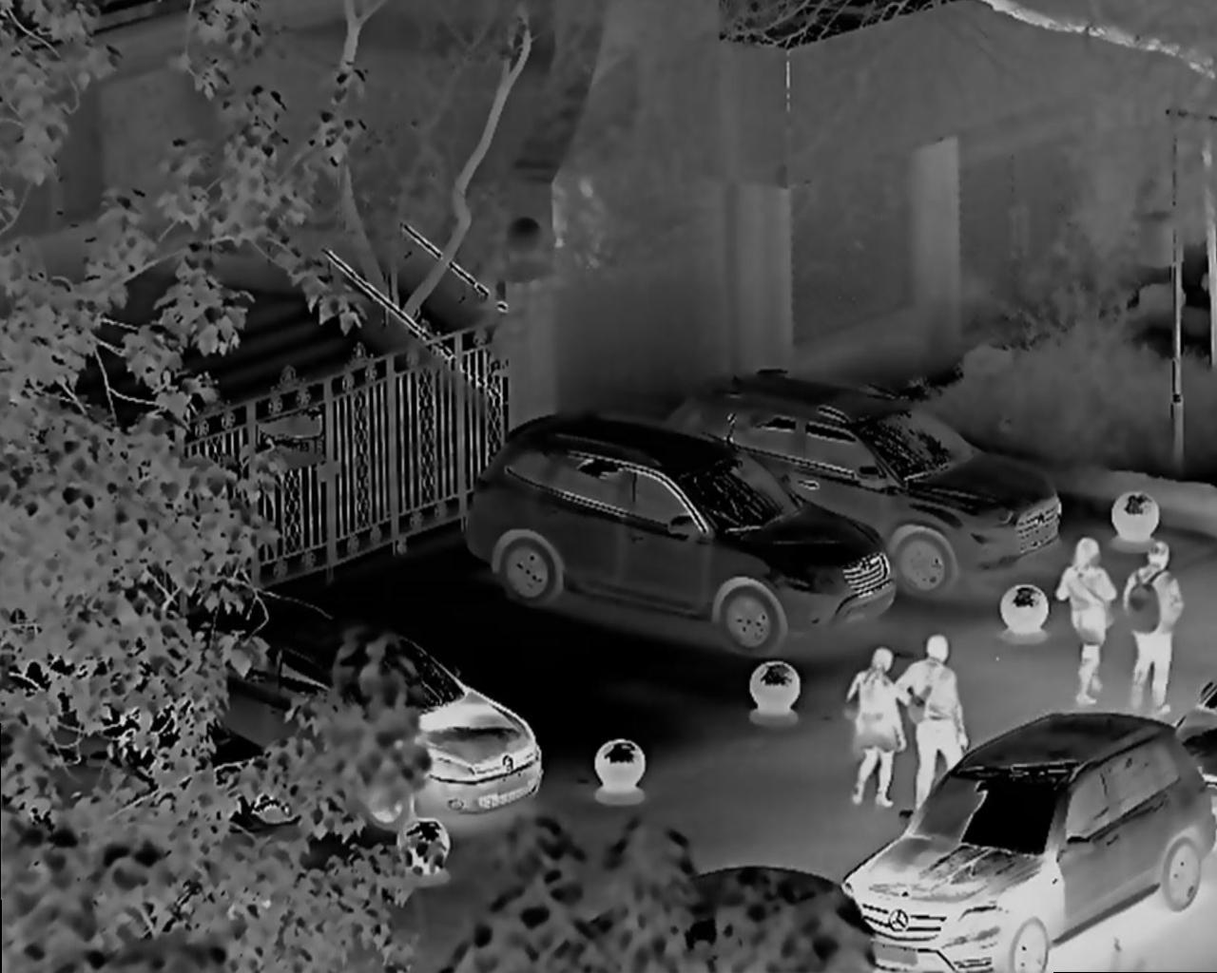person: (1120, 539, 1197, 718), (904, 624, 980, 801), (843, 635, 912, 796), (1053, 538, 1118, 705)
